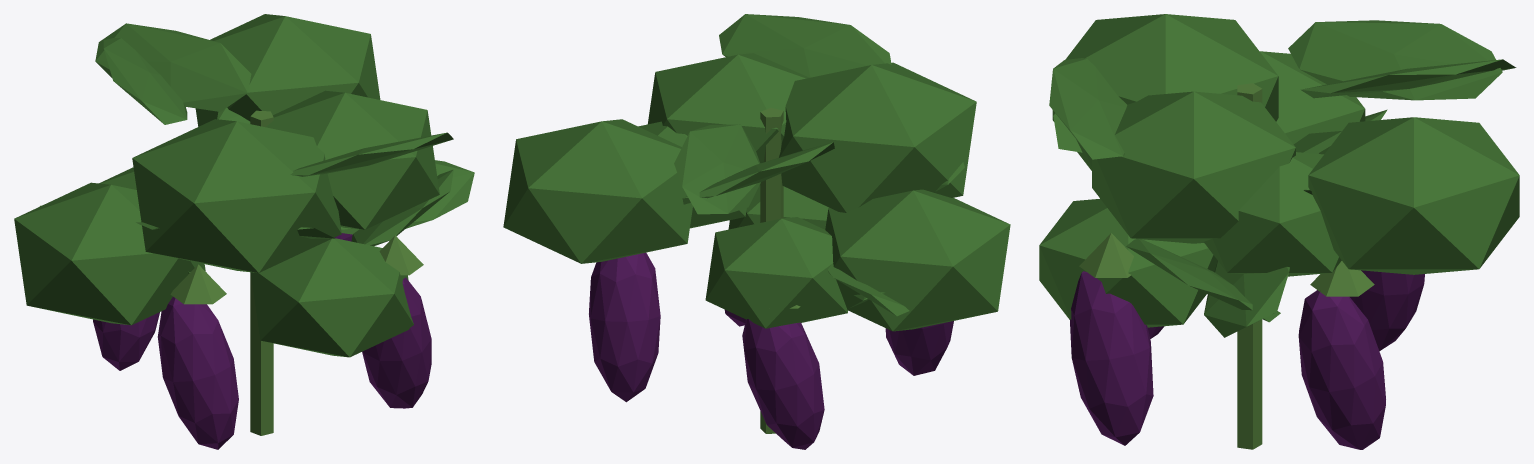
Rendered from ekin_patlican.glb.
3 renders of one model, left to right at view 1: azimuth 30°, elevation 25°; view 2: azimuth 150°, elevation 25°; view 3: azimuth 270°, elevation 25°, orthographic. The views are drawn at different scales.
Parts seen in each view (by area): view 1: Cali; view 2: Cali; view 3: Cali.
Part boxes in pixels (left/top/right/bottom): Cali: left=14, top=14, right=474, bottom=449; Cali: left=503, top=14, right=1010, bottom=449; Cali: left=1039, top=14, right=1519, bottom=449.
Size of the model in its own units: 0.249 by 0.1894 by 0.2083.
